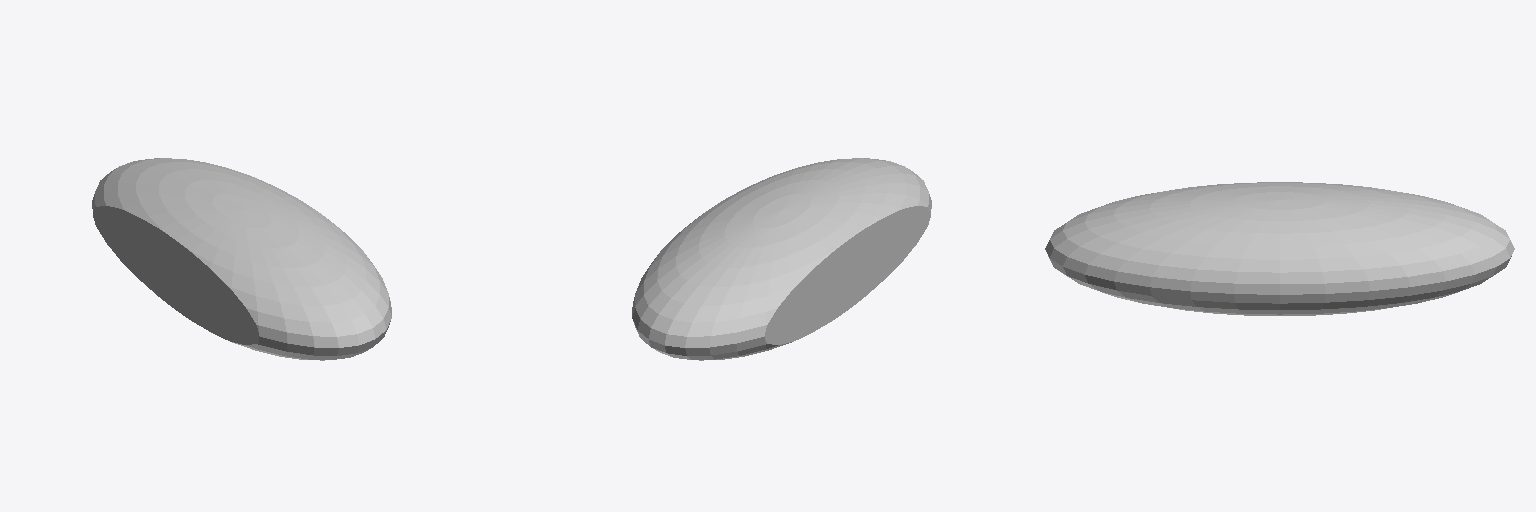
The model's file is butt.obj.
3 renders of one model, left to right at view 1: azimuth 30°, elevation 25°; view 2: azimuth 150°, elevation 25°; view 3: azimuth 270°, elevation 25°, orthographic.
Size of the model in its own units: 9.36 by 5.51 by 23.87.